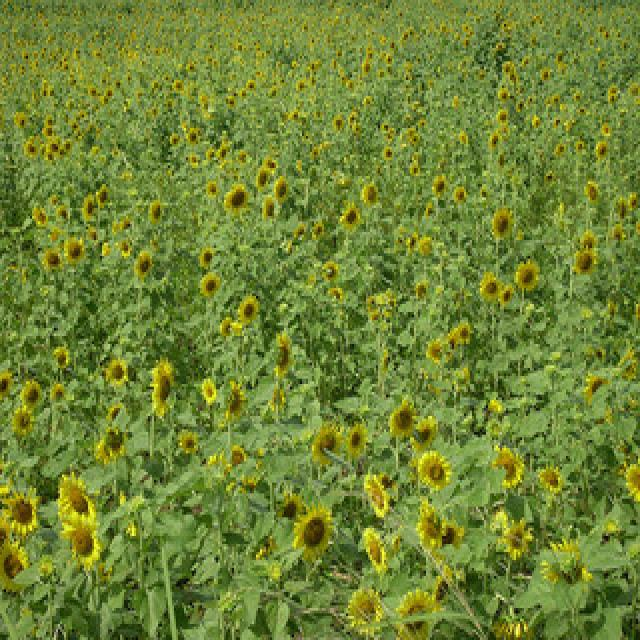sunflower: (536, 540, 600, 612), (396, 582, 448, 638), (49, 471, 103, 524), (289, 504, 339, 560), (341, 574, 383, 638), (479, 441, 525, 495), (147, 358, 183, 422), (355, 523, 395, 576), (0, 485, 40, 536), (352, 465, 390, 516), (382, 397, 424, 443), (419, 439, 447, 497), (486, 203, 516, 245), (60, 235, 96, 269), (447, 309, 475, 352), (230, 290, 260, 330), (564, 244, 598, 279), (510, 255, 542, 292), (537, 463, 565, 505), (222, 180, 254, 215), (15, 372, 47, 407), (194, 262, 222, 302), (265, 173, 295, 206), (130, 248, 156, 285), (334, 203, 364, 232), (106, 355, 128, 392)
